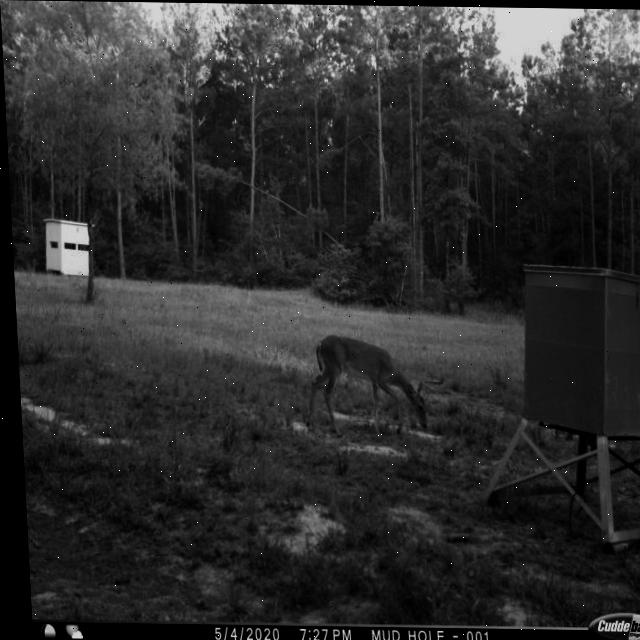Deer: (298, 330, 433, 445)
